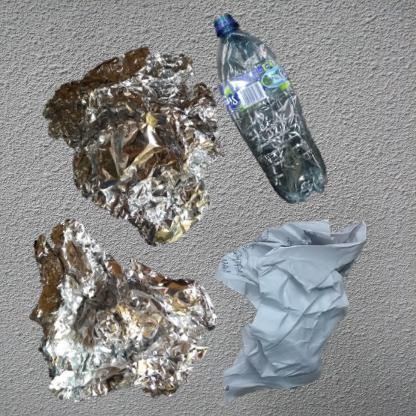aluminio: (10, 10, 284, 281), (10, 213, 233, 416)
botella: (213, 10, 330, 209)
papel: (213, 213, 367, 406)
